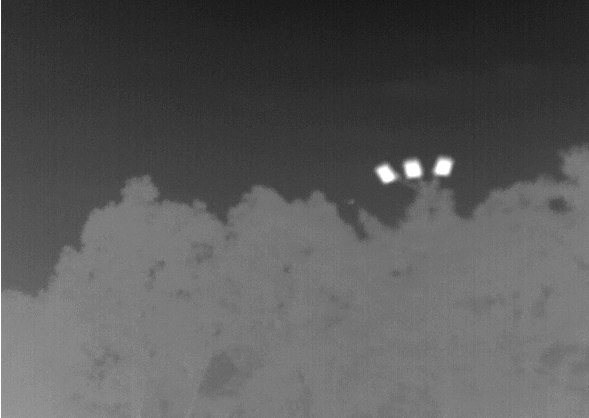dim target: (345, 196, 356, 207)
